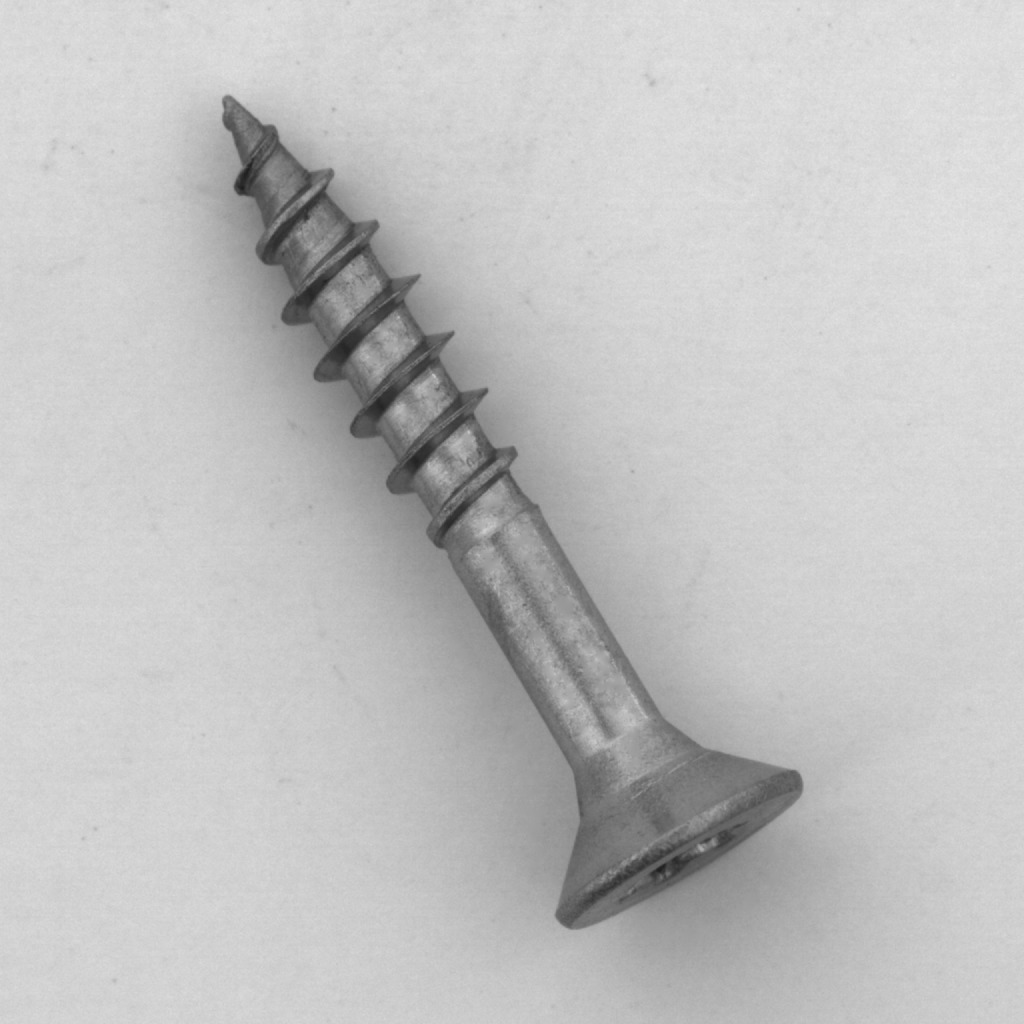good: (194, 71, 830, 949)
